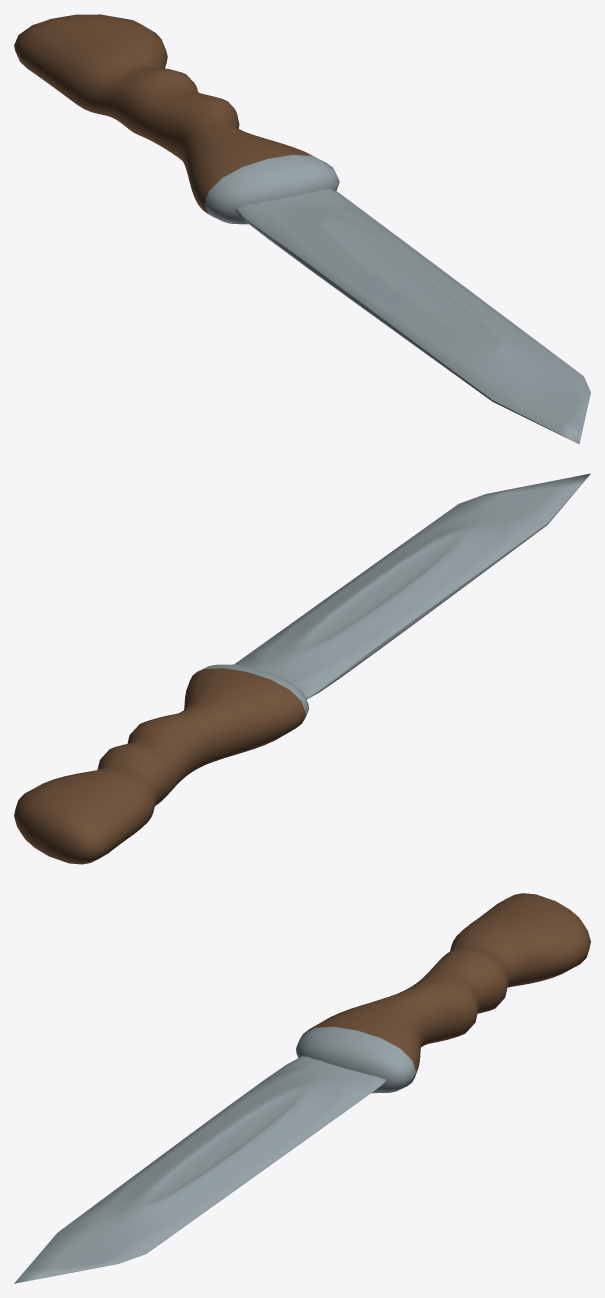
Rendered from dagger.glb.
3 renders of one model, top to bottom at view 1: azimuth 30°, elevation 25°; view 2: azimuth 150°, elevation 25°; view 3: azimuth 330°, elevation 25°, orthographic. The views are drawn at different scales.
Visible parts, largest first — view 1: Cube.003, Cube.002; view 2: Cube.002, Cube.003; view 3: Cube.003, Cube.002.
Boxes of the visible parts, box(x1,y1,x2,y2) form: Cube.003: box(235, 188, 590, 444); Cube.002: box(14, 14, 339, 224); Cube.002: box(14, 664, 308, 864); Cube.003: box(234, 473, 590, 699); Cube.003: box(14, 1056, 386, 1283); Cube.002: box(296, 893, 590, 1093).
Size of the model in its own units: 0.1037 by 0.0475 by 0.7609.
